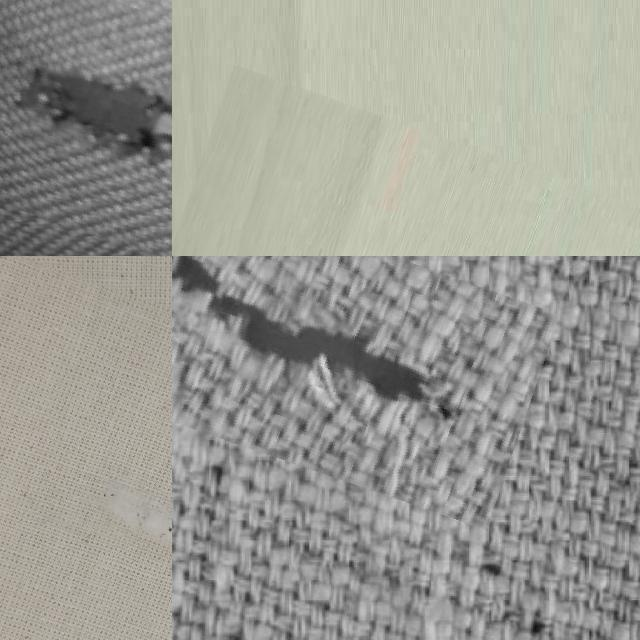other: (172, 256, 548, 496)
stains: (172, 109, 640, 256), (0, 282, 172, 640)
